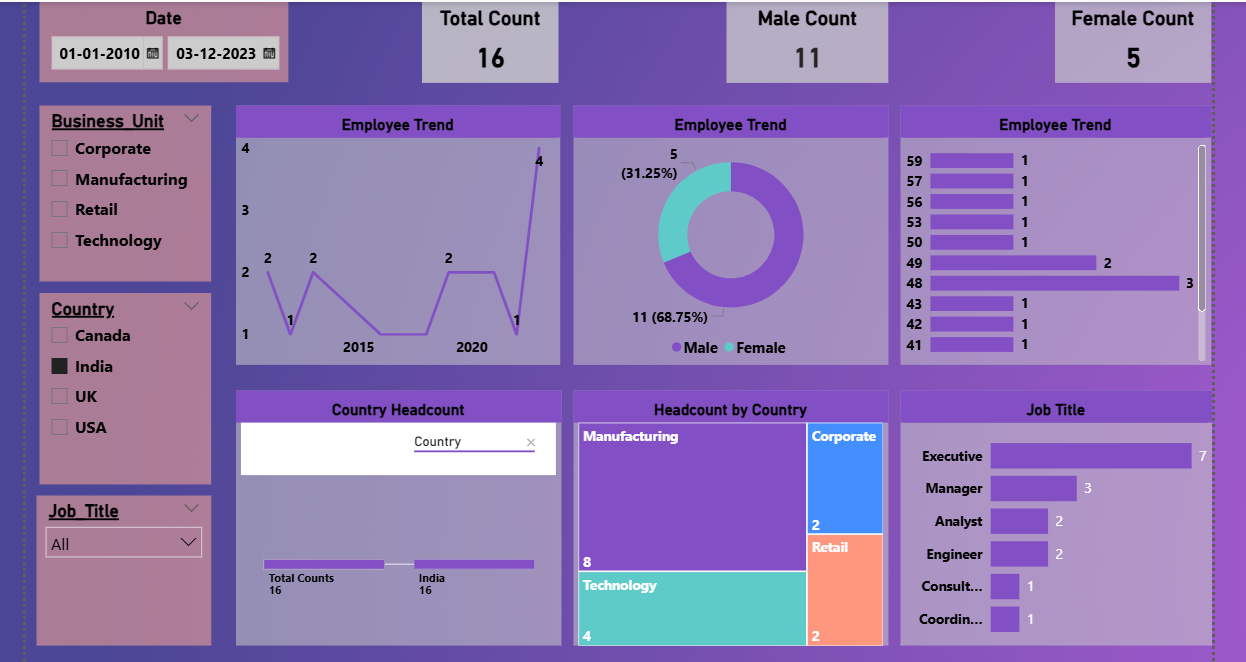

The dashboard page shown, as its layout file describes it:
{"tool":"powerbi","page":{"name":"Page 1","canvas":[1280,720],"ordinal":0},"visuals":[{"type":"lineChart","title":"Employee Trend","fields":{"Category":["projects employee.Hire_Date.Variation.Date Hierarchy.Year"],"Y":["CountNonNull(projects employee.Full_Name)"]},"box":[226,112,350,280],"z":0},{"type":"donutChart","title":"Employee Trend","fields":{"Category":["projects employee.Gender"],"Y":["CountNonNull(projects employee.Full_Name)"]},"box":[591,111.7,340,280.1],"z":1000},{"type":"clusteredBarChart","title":"Employee Trend","fields":{"Category":["projects employee.Age"],"Y":["CountNonNull(projects employee.employee_id)"]},"box":[944,111.7,335.2,280.1],"z":2000},{"type":"decompositionTreeVisual","title":"Country Headcount","fields":{"Analyze":["CountNonNull(projects employee.Country)"],"ExplainBy":["projects employee.Country"]},"box":[223.5,419.4,351.4,275.3],"z":3000},{"type":"treemap","title":"Headcount by Country","fields":{"Group":["projects employee.Business_Unit"],"Values":["CountNonNull(projects employee.employee_id)"]},"box":[591,419.4,340,275.3],"z":4000},{"type":"clusteredBarChart","title":"Job Title","fields":{"Category":["projects employee.Job_Title"],"Y":["CountNonNull(projects employee.employee_id)"]},"box":[944,419.4,336.8,275.3],"z":5000},{"type":"card","title":"Total Count","fields":{"Values":["projects employee.Total_count"]},"box":[427.5,0,147.3,87.4],"z":6000},{"type":"card","title":"Male Count","fields":{"Values":["projects employee.Male_Count"]},"box":[756.2,0,174.9,87.4],"z":7000},{"type":"card","title":"Female Count","fields":{"Values":["projects employee.Female_Count"]},"box":[1110.8,0,168.4,87.4],"z":8000},{"type":"slicer","fields":{"Values":["projects employee.Business_Unit"]},"box":[15,111.7,185,190],"z":9000},{"type":"slicer","fields":{"Values":["projects employee.Country"]},"box":[15,313.3,185,206.7],"z":10000},{"type":"slicer","fields":{"Values":["projects employee.Job_Title"]},"box":[11.7,533.3,188.3,161.7],"z":11000},{"type":"slicer","title":"Date","fields":{"Values":["projects employee.Hire_Date"]},"box":[15,0,268.3,86.7],"z":12000}]}

Visuals, with their boxes on the page's 1280x720 design canvas (x1, y1, x2, y2). These are canvas units, not pixel positions in the 1246x662 screenshot, which may show the page scaled, cropped or inside an application window:
"Employee Trend" lineChart: box(226, 112, 576, 392)
"Employee Trend" donutChart: box(591, 112, 931, 392)
"Employee Trend" clusteredBarChart: box(944, 112, 1279, 392)
"Country Headcount" decompositionTreeVisual: box(224, 419, 575, 695)
"Headcount by Country" treemap: box(591, 419, 931, 695)
"Job Title" clusteredBarChart: box(944, 419, 1281, 695)
"Total Count" card: box(428, 0, 575, 87)
"Male Count" card: box(756, 0, 931, 87)
"Female Count" card: box(1111, 0, 1279, 87)
slicer - projects employee.Business_Unit: box(15, 112, 200, 302)
slicer - projects employee.Country: box(15, 313, 200, 520)
slicer - projects employee.Job_Title: box(12, 533, 200, 695)
"Date" slicer: box(15, 0, 283, 87)
